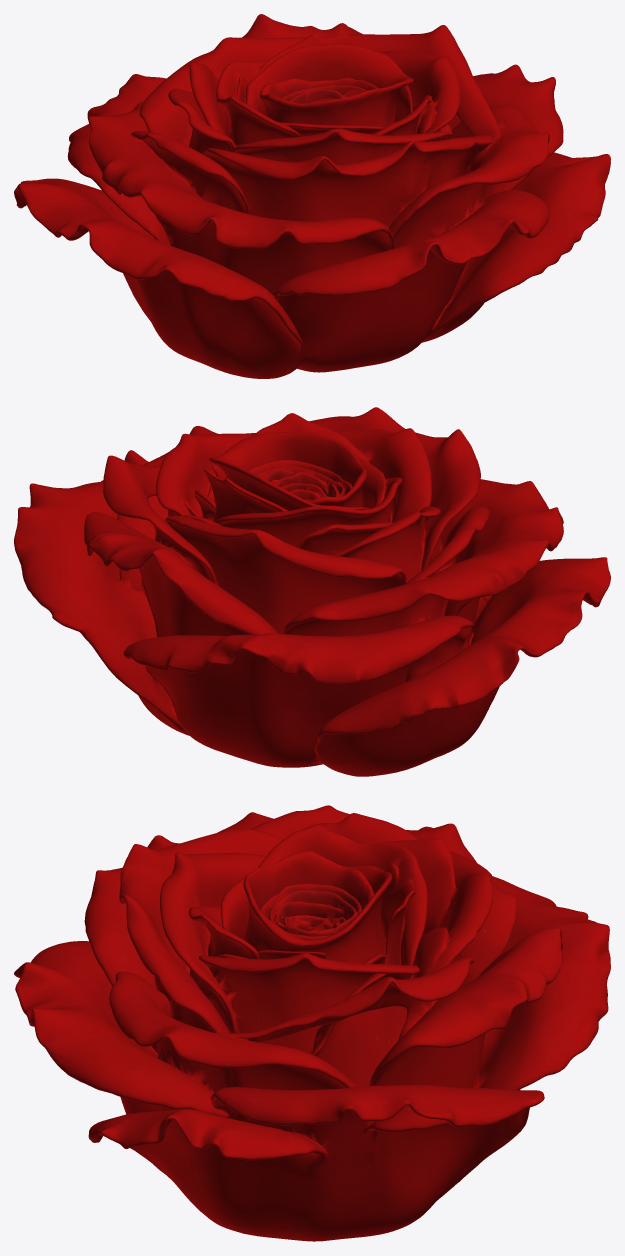
File: Red Rose no stem.glb
The picture shows the model from 3 angles, top to bottom: view 1: azimuth 30°, elevation 25°; view 2: azimuth 150°, elevation 25°; view 3: azimuth 270°, elevation 25°; orthographic projection. The views are drawn at different scales.
Parts seen in each view (by area): view 1: tripo_node_8cf50655-ca47-477c-a02a-42d5d13fe051; view 2: tripo_node_8cf50655-ca47-477c-a02a-42d5d13fe051; view 3: tripo_node_8cf50655-ca47-477c-a02a-42d5d13fe051.
Part boxes in pixels (x1,y1,x2,y2): tripo_node_8cf50655-ca47-477c-a02a-42d5d13fe051: [14, 14, 610, 378]; tripo_node_8cf50655-ca47-477c-a02a-42d5d13fe051: [14, 407, 610, 776]; tripo_node_8cf50655-ca47-477c-a02a-42d5d13fe051: [14, 805, 610, 1241].
Bounding box in the file's own units: 0.9999 × 0.501 × 0.8567.
1 material, 1 textured.
